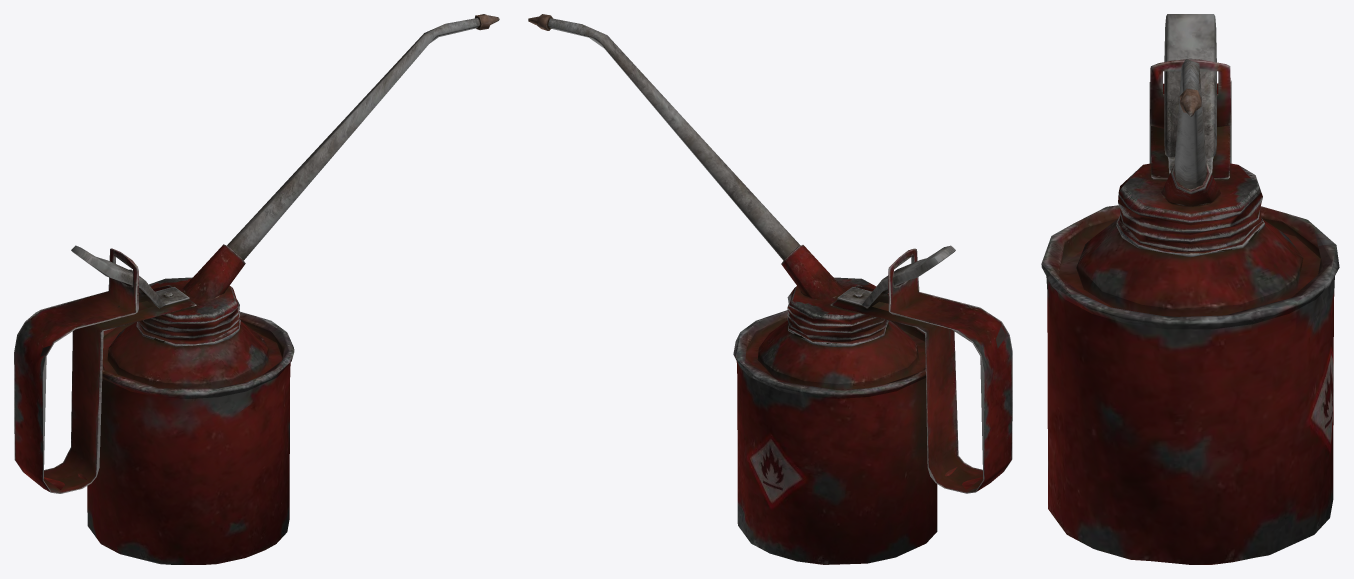
The model's file is small_oil_can_01.glb.
The picture shows the model from 3 angles, left to right: view 1: azimuth 30°, elevation 25°; view 2: azimuth 150°, elevation 25°; view 3: azimuth 270°, elevation 25°; orthographic projection. The views are drawn at different scales.
Parts seen in each view (by area): view 1: small_oil_can_01; view 2: small_oil_can_01; view 3: small_oil_can_01.
Part boxes in pixels (x1,y1,x2,y2): small_oil_can_01: (14, 14, 499, 564); small_oil_can_01: (528, 14, 1012, 564); small_oil_can_01: (1041, 14, 1339, 564).
Bounding box in the file's own units: 0.2657 × 0.2368 × 0.1034.
Materials: 1 (1 with a texture image).
